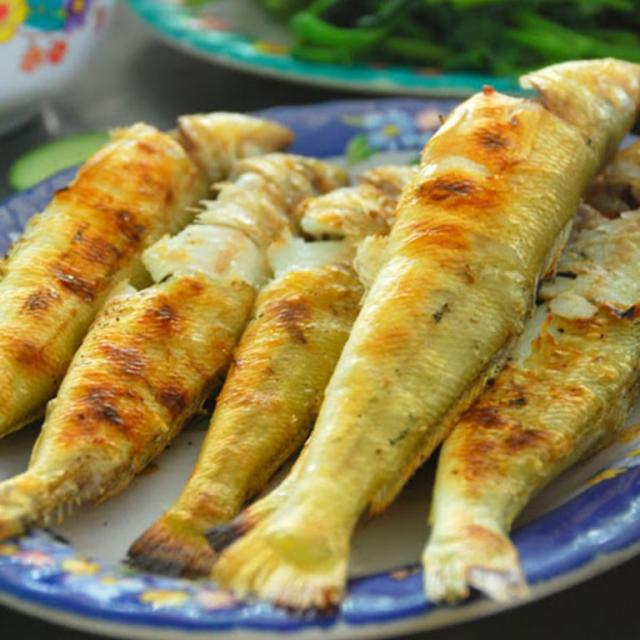ca chien: (213, 58, 639, 608), (0, 152, 346, 538), (130, 166, 415, 572), (422, 139, 639, 598), (0, 112, 292, 437)
